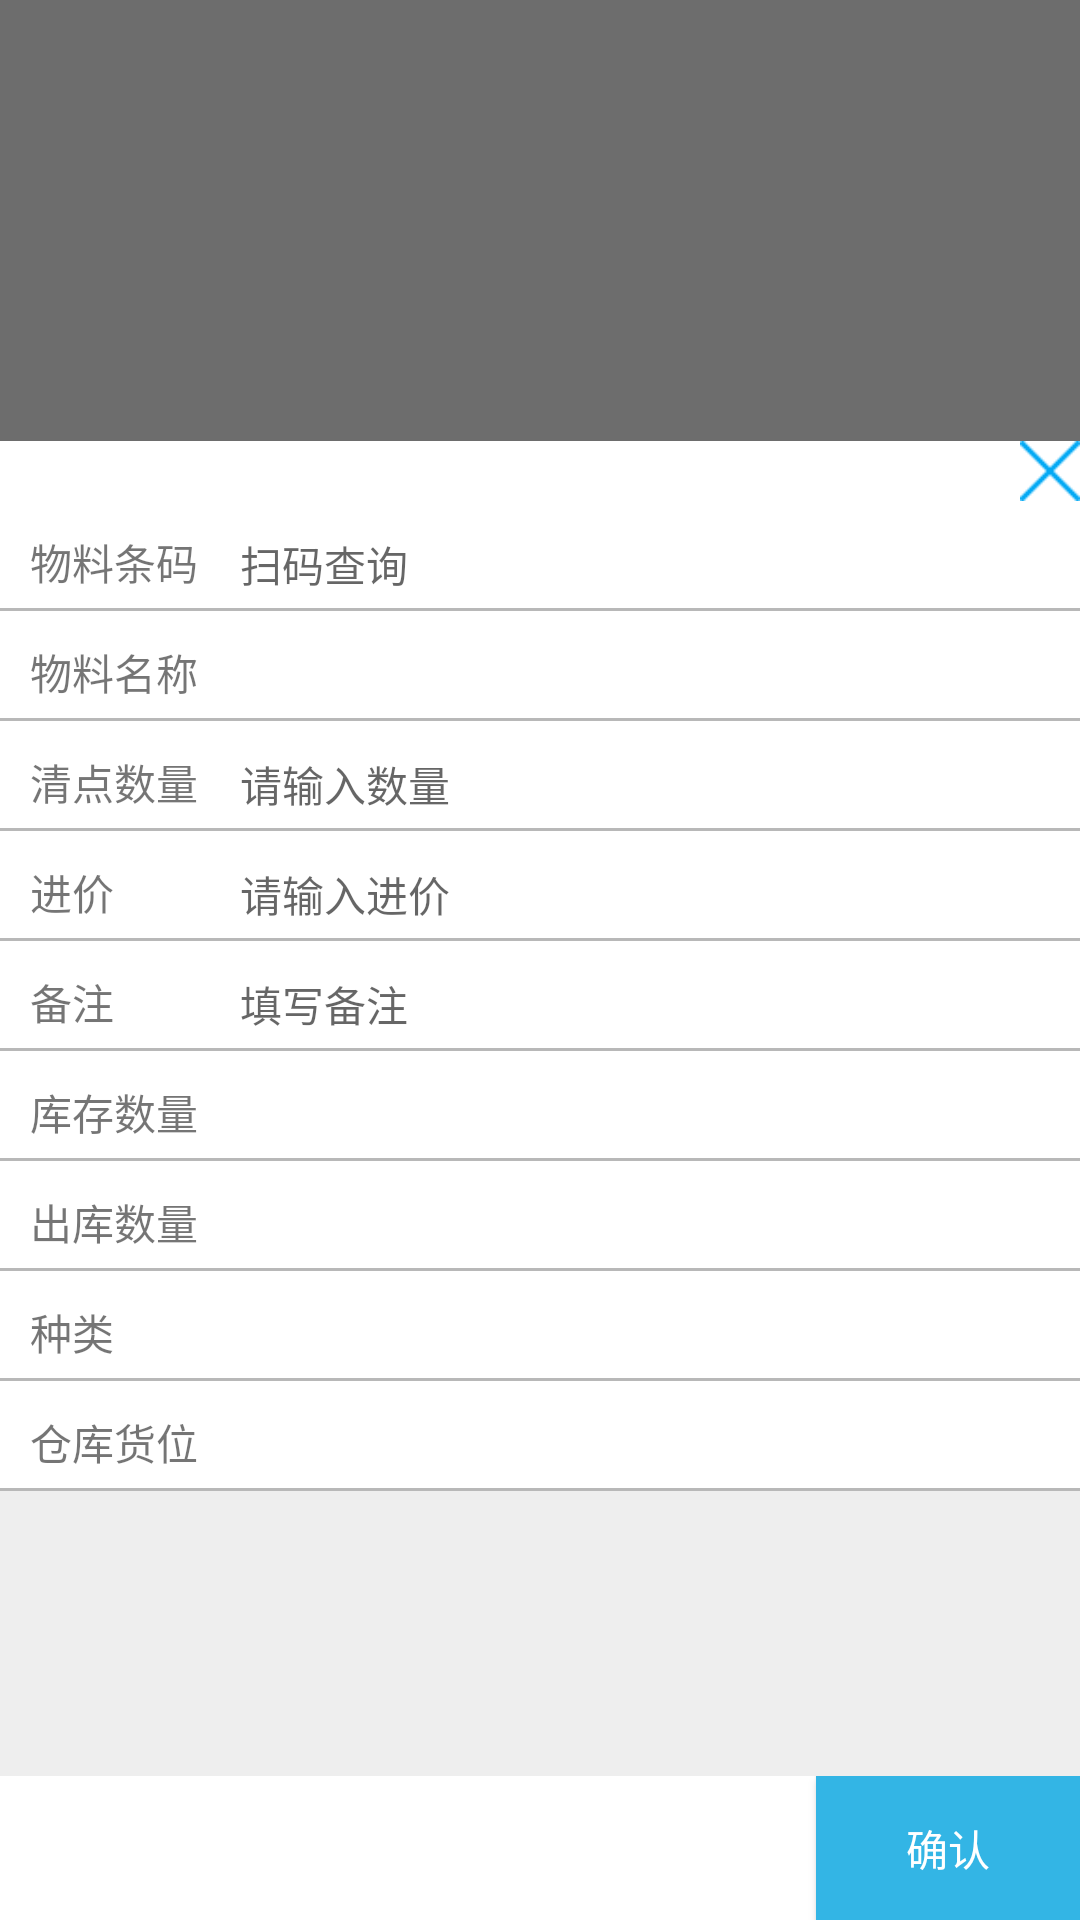

Icon click points for this 1080px x 1920px phone screenshot, format [x,y]:
close: [1050,471]
